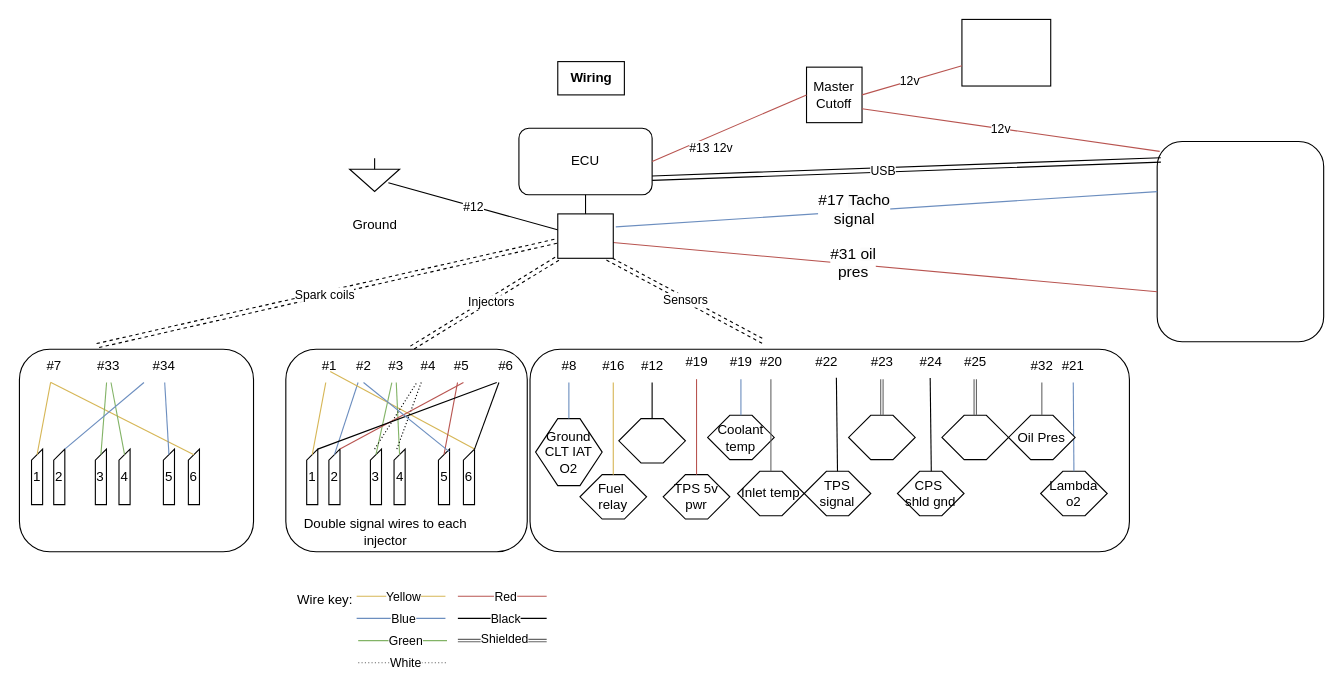
The diagram is 1343 pixels wide and 690 high, and some of its shapes have lost their labels. Each missing label, with the centre of its shape:
"34 pin conector" goes at [585,235].
"Battery" goes at [1006,52].
"CPS ground" goes at [881,437].
"CPS signal" goes at [975,437].
"Dashboard PI" goes at [1240,241].
"TPS GND" goes at [651,440].
